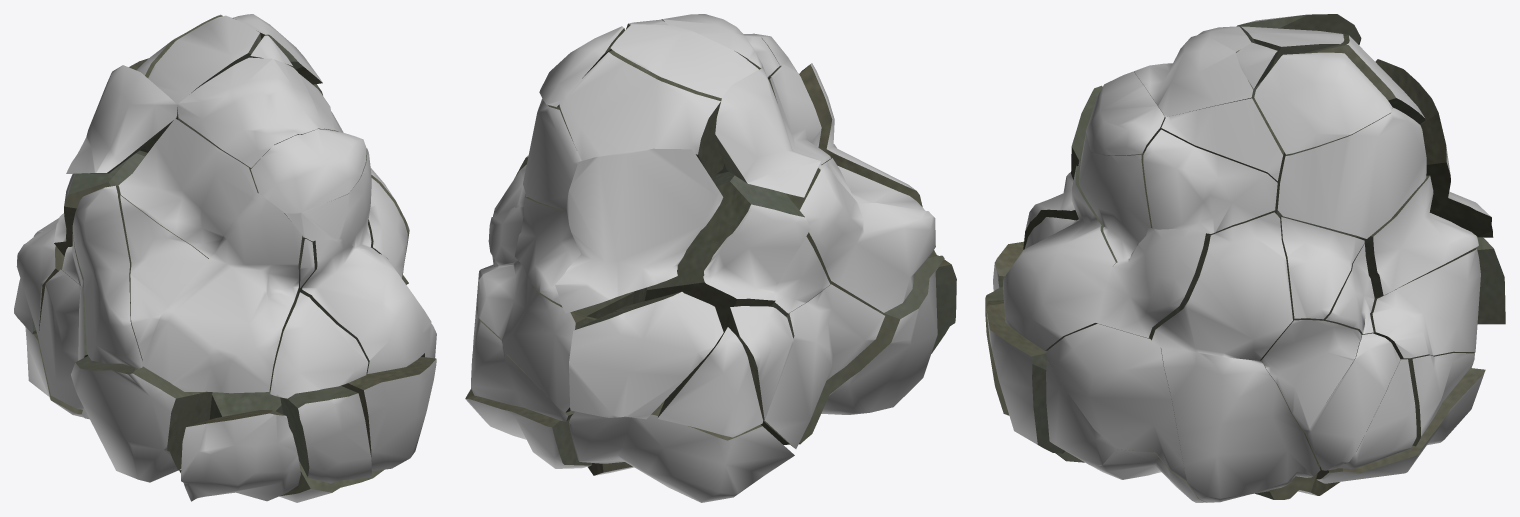
Rendered from ore_shatter_noAnim.fbx.
The picture shows the model from 3 angles, left to right: view 1: azimuth 30°, elevation 25°; view 2: azimuth 150°, elevation 25°; view 3: azimuth 270°, elevation 25°; orthographic projection. The views are drawn at different scales.
Parts seen in each view (by area): view 1: lowP.011_cell.066, lowP.011_cell.058, lowP.011_cell.076, lowP.011_cell.051, lowP.011_cell.088, lowP.011_cell.077, lowP.011_cell.091, lowP.011_cell.093, lowP.011_cell.072, lowP.011_cell.060, lowP.011_cell.084, lowP.011_cell.097 (+17 smaller); view 2: lowP.011_cell.078, lowP.011_cell.050, lowP.011_cell.063, lowP.011_cell.073, lowP.011_cell.087, lowP.011_cell.091, lowP.011_cell.058, lowP.011_cell.071, lowP.011_cell.079, lowP.011_cell.060, lowP.011_cell.089, lowP.011_cell.044 (+14 smaller); view 3: lowP.011_cell.055, lowP.011_cell.068, lowP.011_cell.056, lowP.011_cell.083, lowP.011_cell.051, lowP.011_cell.061, lowP.011_cell.062, lowP.011_cell.079, lowP.011_cell.080, lowP.011_cell.088, lowP.011_cell.074, lowP.011_cell.094 (+23 smaller).
Boxes of the visible parts, box(x1,y1,x2,y2) form: lowP.011_cell.066: box(142, 192, 303, 393); lowP.011_cell.058: box(71, 356, 212, 482); lowP.011_cell.076: box(118, 118, 258, 258); lowP.011_cell.051: box(298, 239, 431, 373); lowP.011_cell.088: box(177, 57, 323, 169); lowP.011_cell.077: box(181, 410, 300, 501); lowP.011_cell.091: box(72, 185, 142, 368); lowP.011_cell.093: box(251, 129, 366, 213); lowP.011_cell.072: box(280, 385, 371, 483); lowP.011_cell.060: box(66, 65, 176, 173); lowP.011_cell.084: box(120, 195, 208, 359); lowP.011_cell.097: box(270, 292, 368, 398); lowP.011_cell.078: box(555, 148, 723, 313); lowP.011_cell.050: box(569, 291, 723, 419); lowP.011_cell.063: box(645, 171, 810, 329); lowP.011_cell.073: box(559, 50, 724, 177); lowP.011_cell.087: box(569, 400, 794, 502); lowP.011_cell.091: box(786, 165, 935, 312); lowP.011_cell.058: box(761, 255, 944, 444); lowP.011_cell.071: box(762, 284, 884, 448); lowP.011_cell.079: box(476, 260, 597, 412); lowP.011_cell.060: box(715, 68, 820, 197); lowP.011_cell.089: box(657, 327, 762, 437); lowP.011_cell.044: box(610, 24, 758, 98); lowP.011_cell.055: box(1161, 348, 1320, 502); lowP.011_cell.068: box(1149, 212, 1292, 360); lowP.011_cell.056: box(1276, 107, 1426, 238); lowP.011_cell.083: box(1046, 323, 1186, 481); lowP.011_cell.051: box(1003, 165, 1117, 350); lowP.011_cell.061: box(1143, 129, 1277, 238); lowP.011_cell.062: box(1254, 52, 1392, 154); lowP.011_cell.079: box(1370, 248, 1480, 359); lowP.011_cell.080: box(1095, 227, 1205, 337); lowP.011_cell.088: box(1134, 26, 1262, 117); lowP.011_cell.074: box(1352, 175, 1478, 298); lowP.011_cell.094: box(1261, 320, 1361, 432).
Size of the model in its own units: 333 by 358 by 395.
